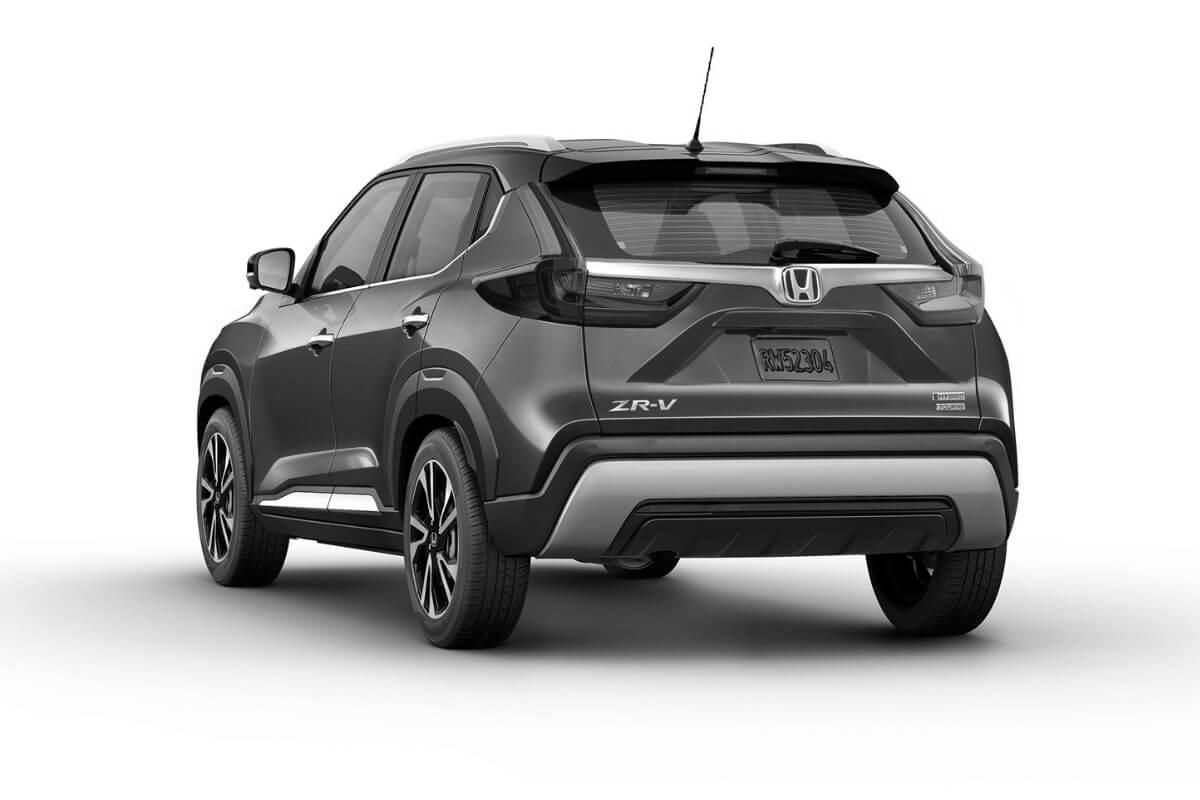Car boot: (542, 142, 988, 444)
Fender - -F-L-: (204, 286, 281, 516)
Fender - -R-L-: (412, 236, 524, 442)
Passenger-s door - -F-L-: (247, 160, 404, 538)
Passenger-s door - -R-L-: (332, 159, 494, 541)
Rear bumper: (453, 306, 1025, 569)
Rear light - -L-: (470, 166, 712, 333)
Rear light - -R-: (873, 174, 990, 337)
Side bumper - -L-: (244, 469, 412, 565)
Side mirror - -L-: (234, 239, 311, 309)
